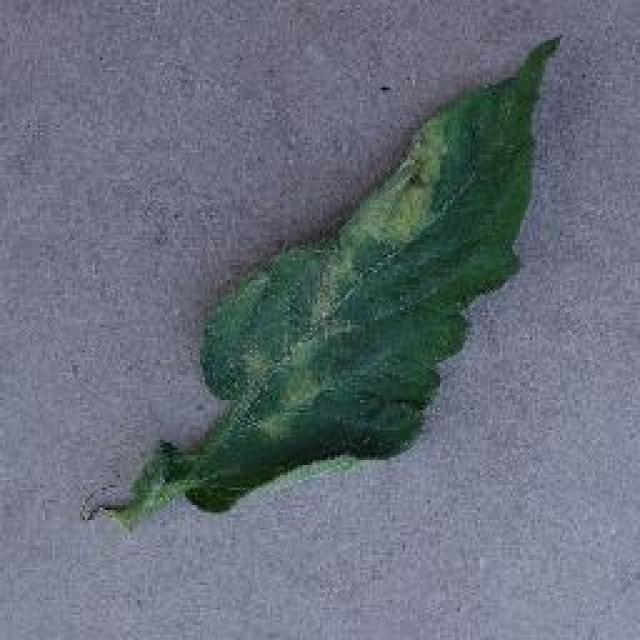Tomato mold leaf: (172, 33, 564, 515)
